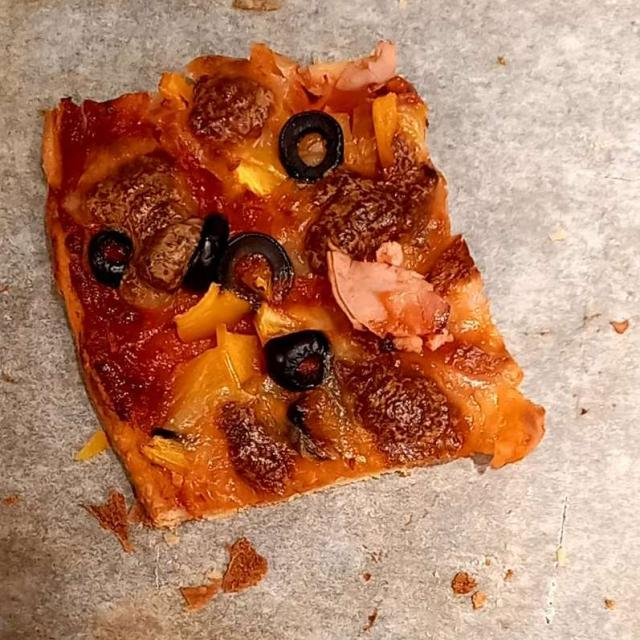pizza-with-vegetables-baked: (46, 55, 539, 522)
